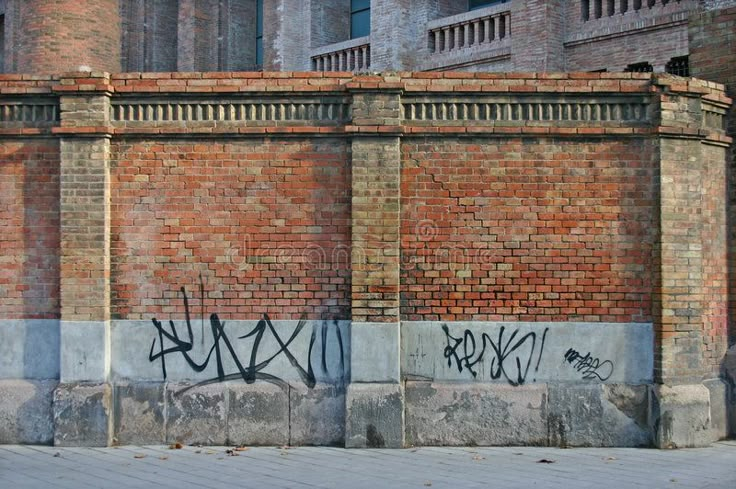Wall: (13, 140, 647, 318)
